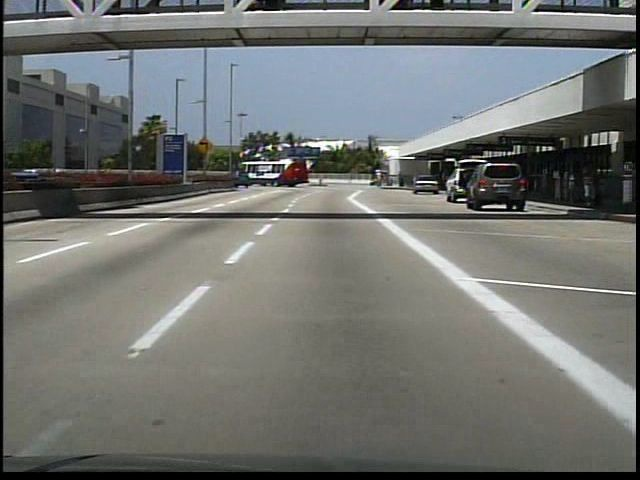person: (575, 164, 599, 212)
